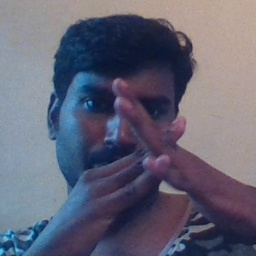W: (75, 65, 224, 221)
